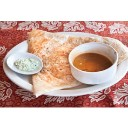dosa: (26, 29, 128, 93)
